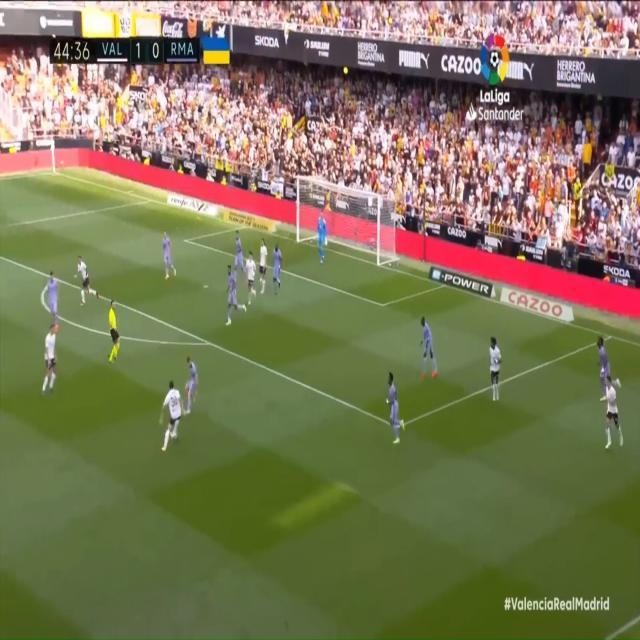ball: (172, 432, 179, 441)
goalkeeper: (313, 213, 332, 271)
player: (383, 370, 413, 455), (414, 316, 444, 382), (159, 375, 183, 454), (595, 332, 624, 397), (598, 375, 623, 450), (222, 265, 249, 327), (74, 255, 101, 316), (150, 231, 180, 285), (44, 263, 66, 332), (43, 323, 64, 395), (183, 356, 203, 422), (268, 241, 288, 307), (486, 331, 501, 407), (246, 253, 263, 314), (232, 232, 250, 289), (259, 238, 274, 305)
referee: (104, 293, 126, 374)
